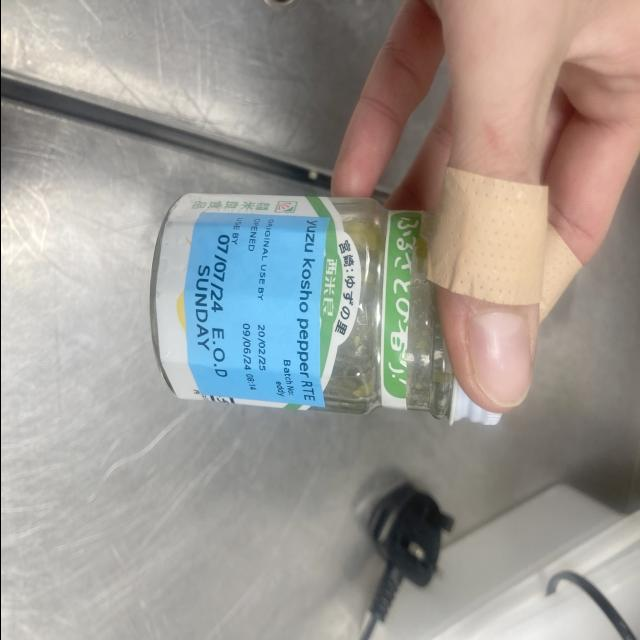product-labels: (185, 215, 329, 406)
